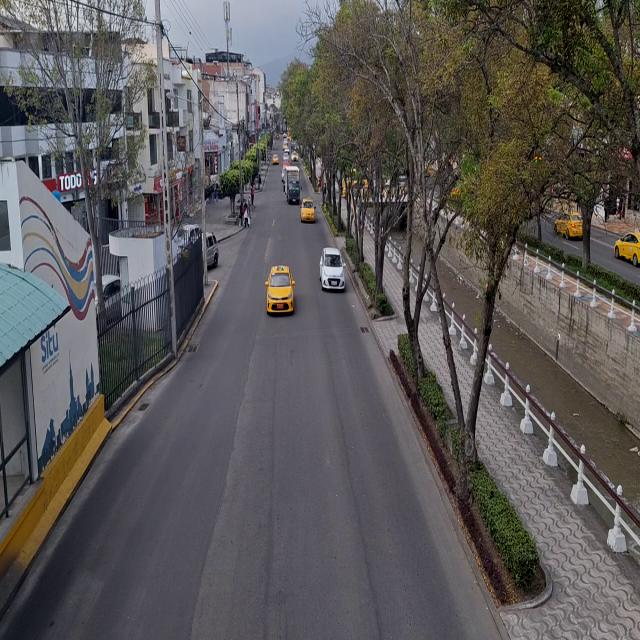SED: (268, 266, 294, 314), (322, 250, 346, 292), (557, 214, 583, 237)
